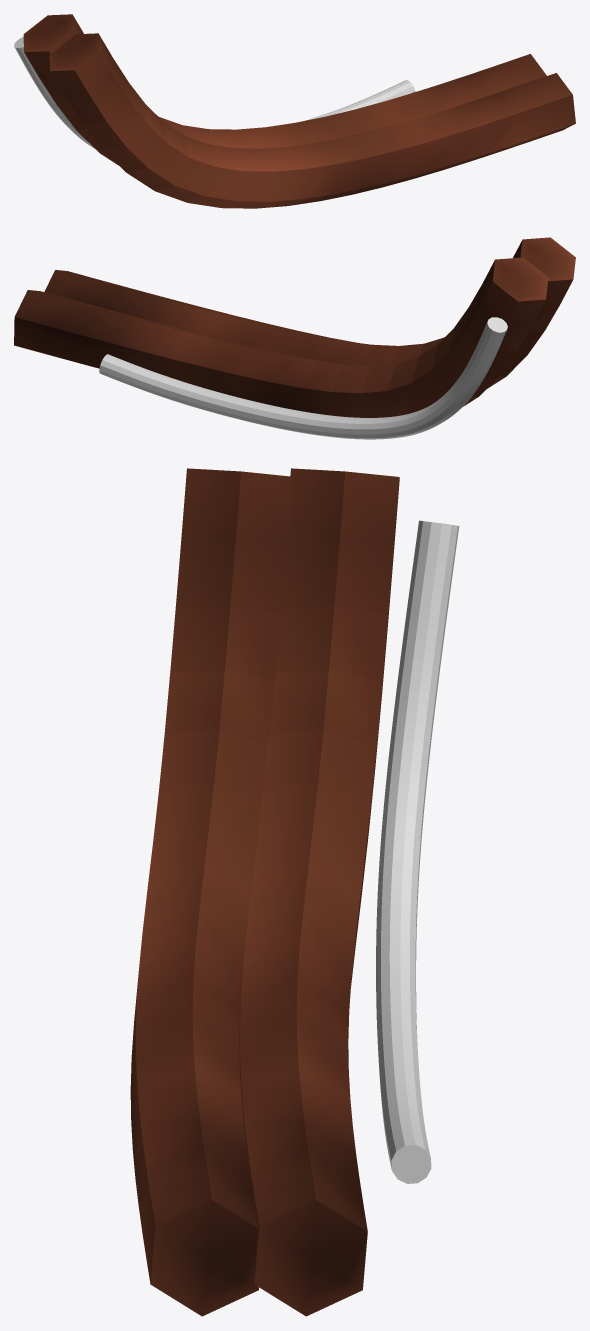
Rendered from Deco_tuyau.fbx.
3 views of the same model, one above another, from view 1: azimuth 30°, elevation 25°; view 2: azimuth 150°, elevation 25°; view 3: azimuth 270°, elevation 25° (orthographic). The views are drawn at different scales.
Visible parts, largest first — view 1: Tube (×2), Tube 1; view 2: Tube 1, Tube (×2); view 3: Tube (×2), Tube 1.
Boxes of the visible parts, x1,y1,x2,y2 form: Tube (×2): (14,33,575,208); Tube 1: (23,14,546,165); Tube 1: (14,257,548,417); Tube (×2): (44,237,575,439); Tube (×2): (130,468,459,1316); Tube 1: (239,468,399,1316).
Bounding box in the file's own units: 0.4216 × 0.1675 × 0.1193.
